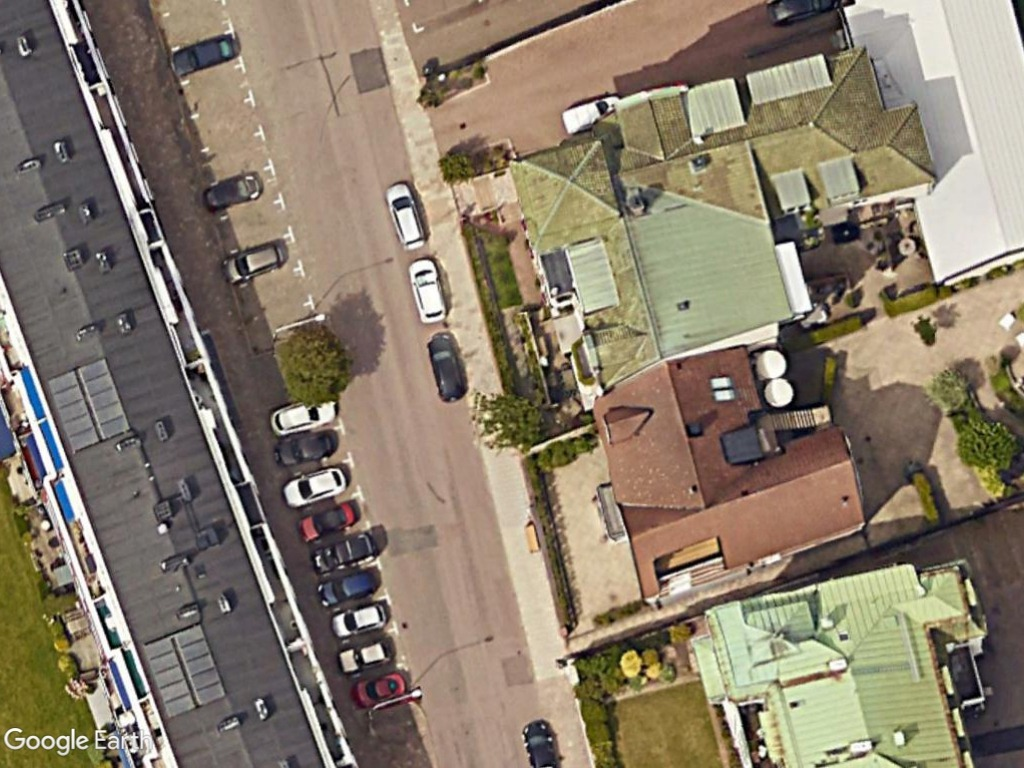car: (305, 525, 382, 579), (171, 26, 244, 81), (382, 178, 430, 255), (219, 237, 290, 288), (279, 464, 352, 513), (424, 332, 469, 408), (314, 560, 382, 610), (296, 496, 360, 543), (199, 170, 265, 215), (327, 600, 393, 645), (408, 254, 449, 325), (271, 427, 338, 470), (333, 635, 395, 678), (349, 668, 409, 712)
